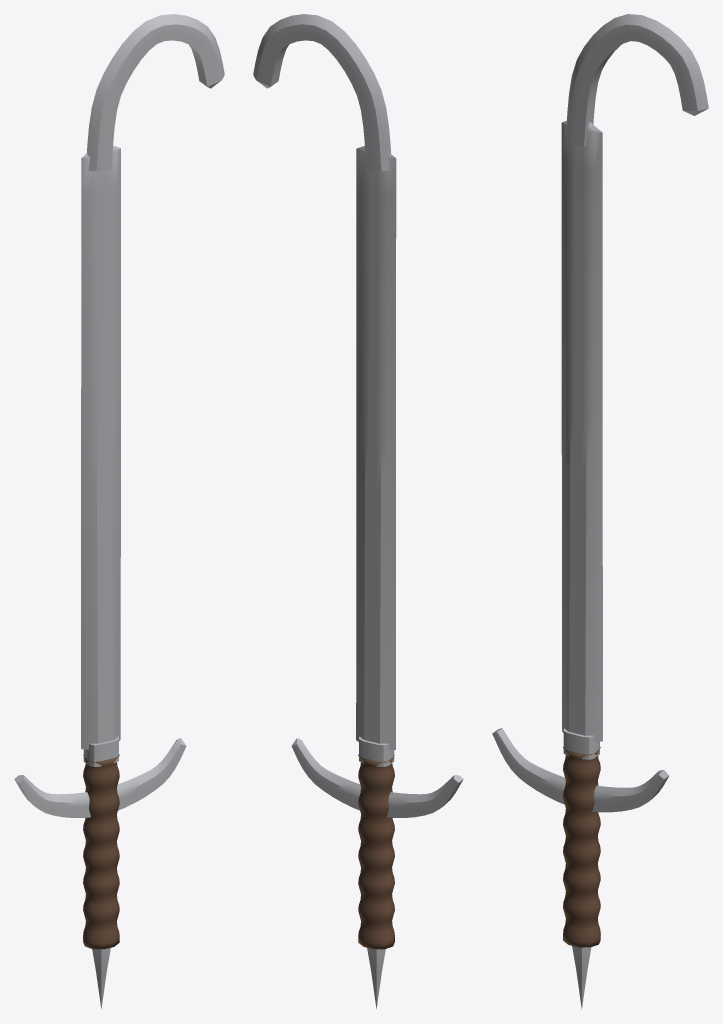
The model's file is shang-gou.glb.
3 renders of one model, left to right at view 1: azimuth 30°, elevation 25°; view 2: azimuth 150°, elevation 25°; view 3: azimuth 330°, elevation 25°, orthographic. The views are drawn at different scales.
Visible parts, largest first — view 1: shang-gou; view 2: shang-gou; view 3: shang-gou.
Part boxes in pixels (x1,y1,x2,y2): shang-gou: (14,14,224,1008); shang-gou: (253,14,463,1008); shang-gou: (492,14,708,1009).
Bounding box in the file's own units: 0.4186 × 1.88 × 0.0551.
